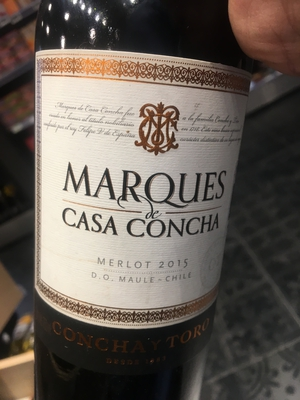marques de casa concha merlot: (21, 7, 258, 400)
